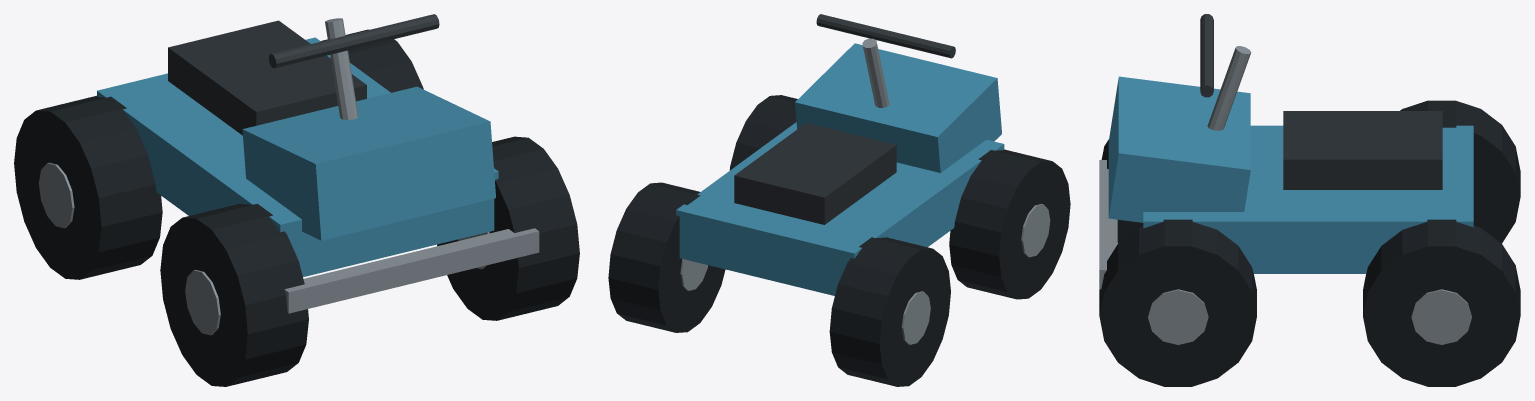
File: snow_atv.glb
3 renders of one model, left to right at view 1: azimuth 30°, elevation 25°; view 2: azimuth 150°, elevation 25°; view 3: azimuth 270°, elevation 25°, orthographic. The views are drawn at different scales.
Visible parts, largest first — view 1: ATVBody, Wheel_RL, Wheel_FL, Wheel_FR, Wheel_RR, Hub_FL, Hub_RL; view 2: ATVBody, Wheel_RL, Wheel_FL, Wheel_RR, Wheel_FR, Hub_FL, Hub_RL, Hub_RR; view 3: ATVBody, Wheel_RR, Wheel_FR, Wheel_RL, Hub_FR, Hub_RR, Wheel_FL.
Boxes of the visible parts, x1,y1,x2,y2 form: ATVBody: (97, 14, 539, 313); Wheel_RL: (14, 95, 162, 279); Wheel_FL: (160, 203, 308, 386); Wheel_FR: (437, 136, 579, 320); Wheel_RR: (321, 29, 423, 92); Hub_FL: (185, 269, 220, 335); Hub_RL: (38, 162, 74, 228); ATVBody: (676, 14, 1004, 295); Wheel_RL: (829, 237, 950, 386); Wheel_FL: (949, 149, 1070, 299); Wheel_RR: (608, 182, 725, 332); Wheel_FR: (729, 95, 797, 170); Hub_FL: (1021, 204, 1050, 257); Hub_RL: (901, 291, 930, 344); Hub_RR: (680, 259, 707, 290); ATVBody: (1099, 14, 1473, 289); Wheel_RR: (1363, 219, 1520, 386); Wheel_FR: (1099, 219, 1256, 386); Wheel_RL: (1400, 100, 1520, 243); Hub_FR: (1148, 289, 1208, 344); Hub_RR: (1411, 289, 1471, 344); Wheel_FL: (1101, 139, 1143, 243).
Bounding box in the file's own units: 2.31 × 1.94 × 2.78.
